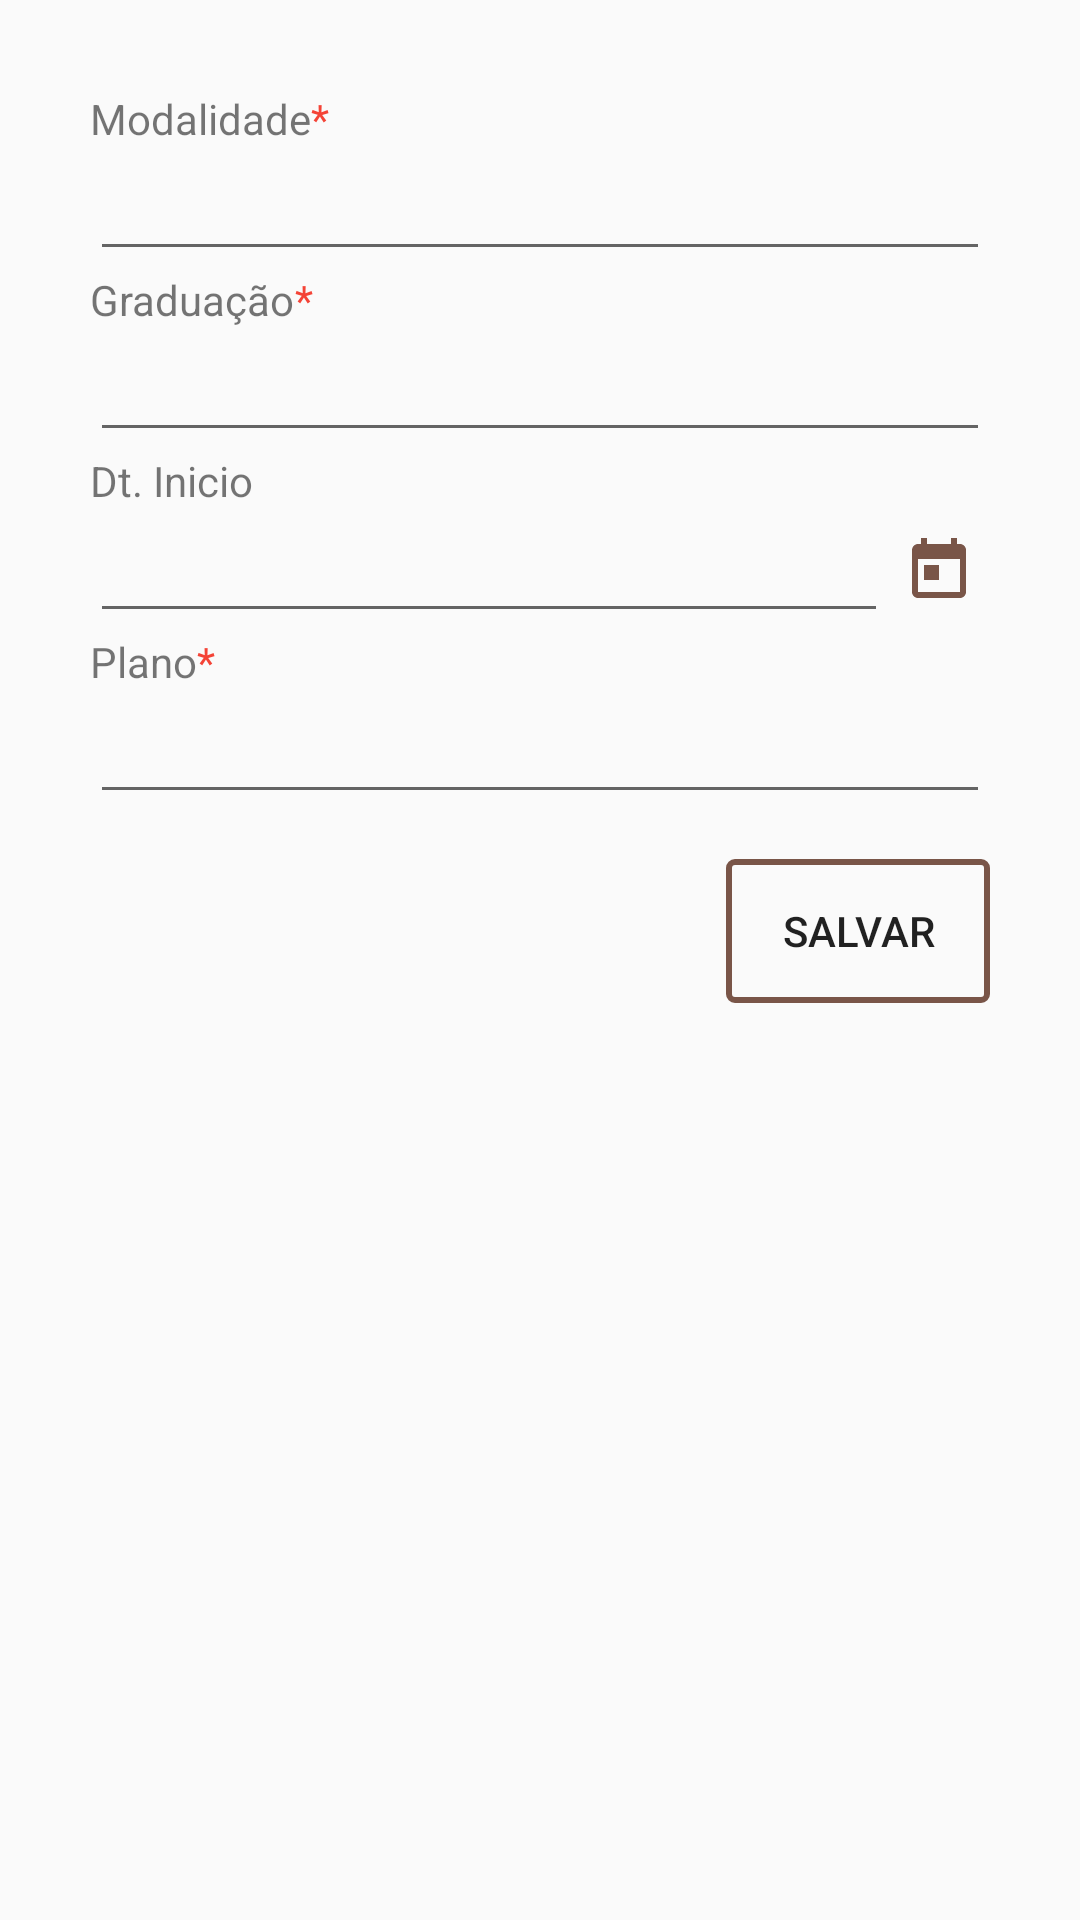

Named icons in this screenshot (1080x1920) and their centers, (x=x, y=y):
today brown: (x=939, y=568)
